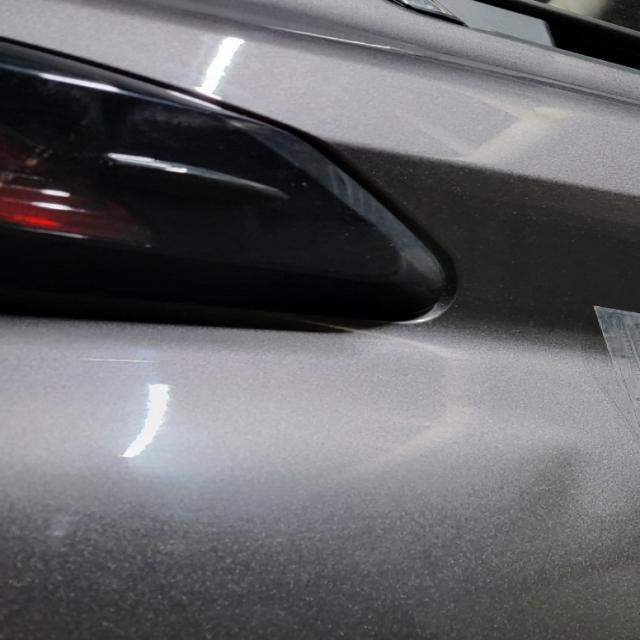dents: (496, 435, 623, 568)
